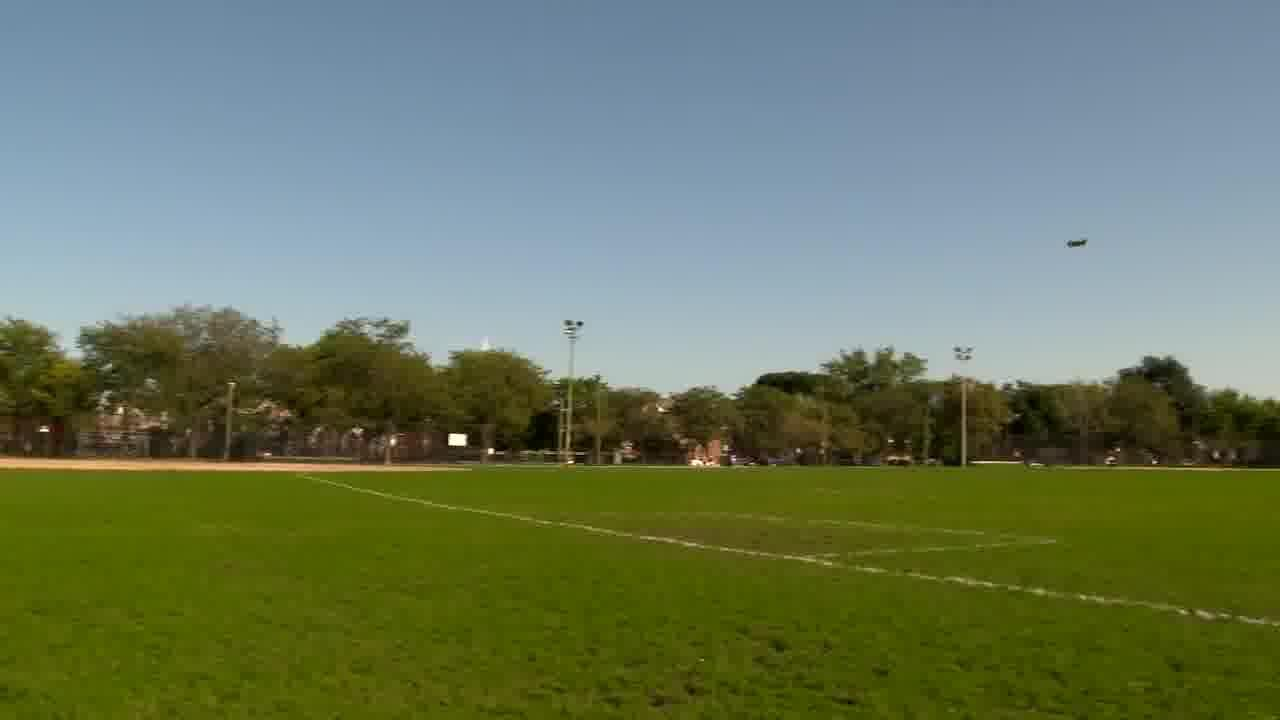drone: (1060, 232, 1099, 253)
